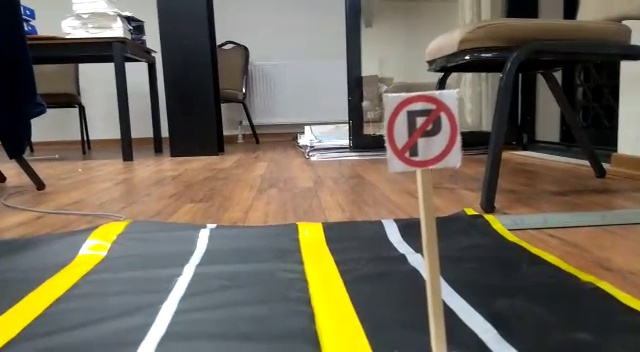park_yapilmaz: (381, 92, 461, 170)
